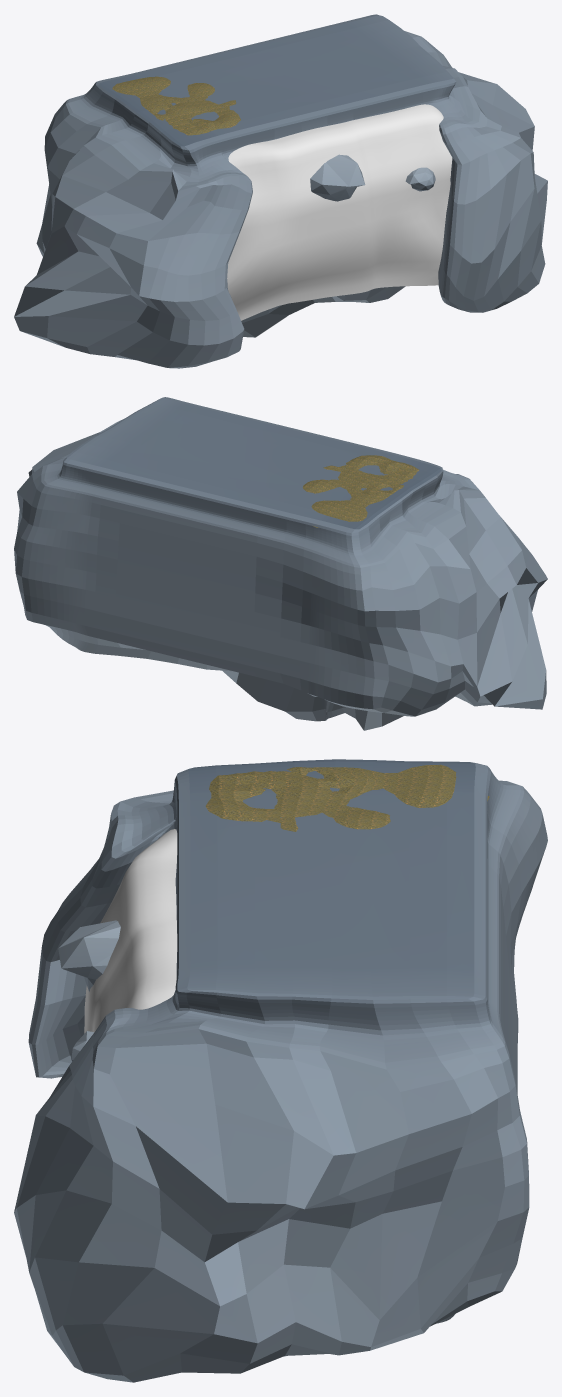
File: MountainAndFall 2.fbx
The picture shows the model from 3 angles, top to bottom: view 1: azimuth 30°, elevation 25°; view 2: azimuth 150°, elevation 25°; view 3: azimuth 270°, elevation 25°; orthographic projection. The views are drawn at different scales.
Parts seen in each view (by area): view 1: Cube.044, Plane.005, Plane.006, Icosphere, Icosphere.001; view 2: Cube.044, Plane.006; view 3: Cube.044, Plane.005, Plane.006, Icosphere.
Boxes of the visible parts, x1=… form: Cube.044: x1=14, y1=14, x2=547, y2=368; Plane.005: x1=227, y1=104, x2=452, y2=320; Plane.006: x1=112, y1=76, x2=240, y2=135; Icosphere: x1=310, y1=154, x2=365, y2=201; Icosphere.001: x1=405, y1=167, x2=435, y2=191; Cube.044: x1=14, y1=397, x2=547, y2=730; Plane.006: x1=303, y1=455, x2=418, y2=527; Cube.044: x1=14, y1=759, x2=547, y2=1382; Plane.005: x1=84, y1=829, x2=177, y2=1033; Plane.006: x1=205, y1=764, x2=489, y2=831; Icosphere: x1=58, y1=920, x2=120, y2=991.
Size of the model in its own units: 14196 by 5902 by 7549.
